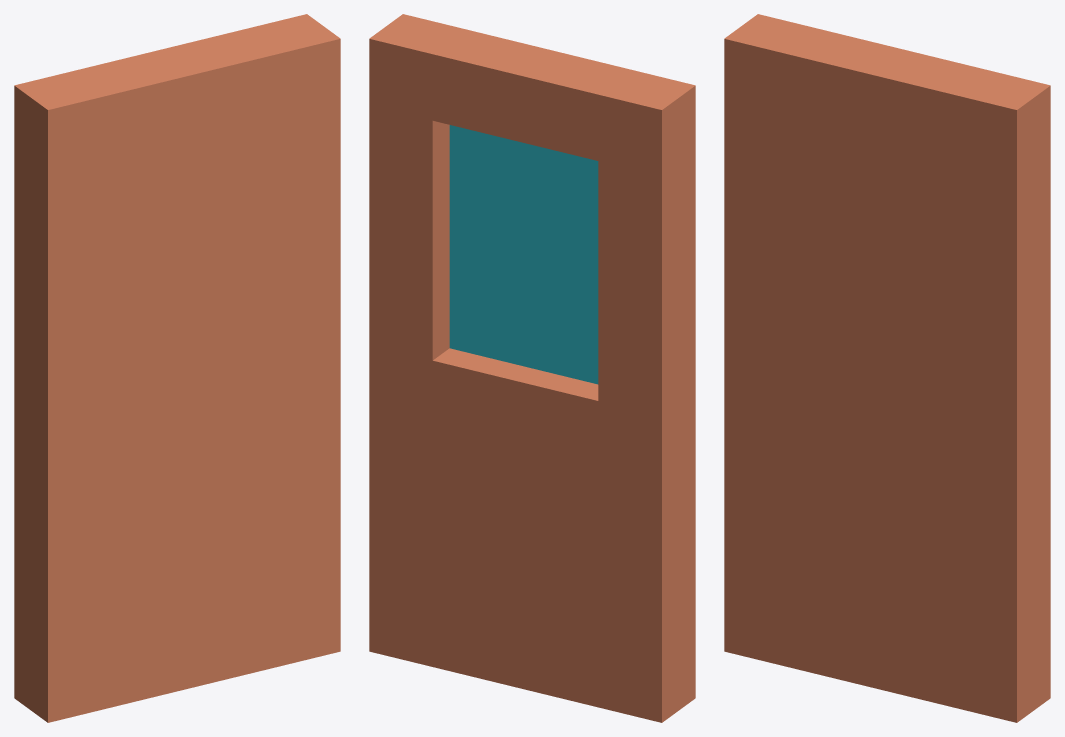
Rendered from DoorWindow.fbx.
3 renders of one model, left to right at view 1: azimuth 30°, elevation 25°; view 2: azimuth 150°, elevation 25°; view 3: azimuth 330°, elevation 25°, orthographic.
Parts seen in each view (by area): view 1: DoorWindow; view 2: DoorWindow; view 3: DoorWindow.
Part boxes in pixels (x1,y1,x2,y2): DoorWindow: (14,14,340,722); DoorWindow: (369,14,695,722); DoorWindow: (724,14,1050,722).
Bounding box in the file's own units: 113 × 225 × 22.5.
